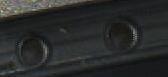joints: (102, 14, 139, 56), (16, 29, 52, 66)
